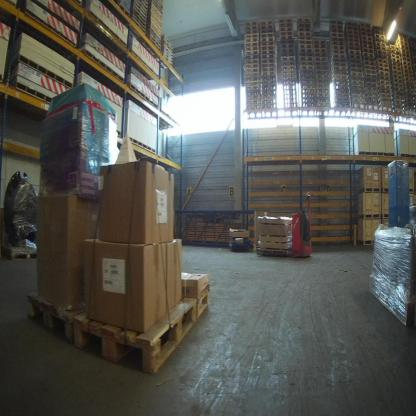pallet_truck: (255, 191, 312, 259)
small_load_carrier: (2, 243, 35, 260), (118, 3, 131, 18), (261, 70, 277, 78), (396, 37, 409, 46), (244, 46, 260, 53), (244, 37, 260, 44), (260, 36, 276, 43), (331, 61, 347, 68), (330, 49, 346, 56), (364, 81, 378, 89), (246, 103, 261, 110), (244, 28, 259, 35), (261, 58, 276, 65), (315, 69, 330, 76), (349, 79, 364, 86), (349, 75, 364, 82), (378, 97, 393, 104), (378, 74, 391, 82), (244, 20, 258, 27), (313, 47, 327, 54), (316, 78, 330, 85), (364, 77, 378, 84), (363, 59, 377, 66), (378, 88, 392, 95), (245, 63, 261, 69), (244, 59, 260, 65), (244, 50, 260, 56), (244, 33, 260, 39), (261, 103, 277, 109), (261, 99, 277, 105), (261, 94, 277, 100), (261, 89, 277, 95), (260, 50, 276, 56), (260, 45, 276, 51), (260, 41, 276, 47), (281, 70, 297, 76), (297, 26, 313, 32), (331, 65, 347, 71), (332, 70, 348, 76), (330, 41, 346, 47), (348, 71, 364, 77), (348, 67, 364, 73), (388, 48, 400, 56), (362, 51, 375, 58), (361, 43, 374, 50), (378, 79, 391, 86), (377, 70, 390, 77), (376, 58, 389, 65), (375, 49, 388, 56), (392, 86, 405, 93), (391, 73, 404, 80), (389, 57, 402, 64), (387, 44, 400, 51), (360, 35, 373, 42), (360, 31, 373, 38), (372, 25, 385, 32), (246, 99, 261, 105), (246, 94, 261, 100), (246, 90, 261, 96), (246, 86, 261, 92), (245, 81, 260, 87), (245, 68, 260, 74), (244, 54, 259, 60), (244, 42, 259, 48), (244, 25, 259, 31), (262, 85, 277, 91), (262, 81, 277, 87), (261, 66, 276, 72), (261, 63, 276, 69), (261, 54, 276, 60), (260, 28, 275, 34), (281, 65, 296, 71), (281, 56, 296, 62), (281, 47, 296, 53), (298, 35, 313, 41), (316, 102, 331, 108), (315, 74, 330, 80), (315, 65, 330, 71), (314, 61, 329, 67), (331, 45, 346, 51), (348, 63, 363, 69), (348, 59, 363, 65), (347, 54, 362, 60), (347, 49, 362, 55), (314, 56, 328, 62), (313, 43, 327, 49), (316, 88, 330, 94), (347, 41, 361, 47), (346, 37, 360, 43), (364, 73, 378, 79), (363, 64, 377, 70), (362, 56, 376, 62), (379, 106, 393, 112), (378, 93, 392, 99), (375, 45, 387, 52), (374, 37, 386, 44), (390, 60, 402, 67), (389, 53, 401, 60), (330, 32, 344, 38), (330, 23, 344, 29), (346, 33, 360, 39), (345, 21, 359, 27), (374, 33, 386, 40), (261, 77, 277, 82), (299, 65, 315, 70), (331, 58, 347, 63), (331, 54, 347, 59), (296, 18, 312, 23), (280, 26, 293, 32), (364, 69, 377, 75), (362, 47, 375, 53), (361, 39, 374, 45), (378, 83, 391, 89), (377, 66, 390, 72), (376, 62, 389, 68), (376, 54, 389, 60), (374, 41, 387, 47), (346, 25, 359, 31), (359, 27, 372, 33), (403, 72, 414, 79), (400, 48, 411, 55), (245, 78, 260, 83), (245, 73, 260, 78), (260, 33, 275, 38), (281, 61, 296, 66), (281, 52, 296, 57), (299, 61, 314, 66), (299, 56, 314, 61), (299, 52, 314, 57), (298, 39, 313, 44), (298, 31, 313, 36), (297, 22, 312, 27), (316, 97, 331, 102), (316, 93, 331, 98), (347, 46, 362, 51), (392, 82, 404, 88), (392, 78, 404, 84), (390, 69, 402, 75), (390, 65, 402, 71), (359, 23, 371, 29), (373, 30, 385, 36), (393, 91, 405, 97), (397, 40, 409, 46), (260, 25, 274, 30), (260, 21, 274, 26), (281, 43, 295, 48), (280, 35, 294, 40), (299, 48, 313, 53), (299, 44, 313, 49), (314, 52, 328, 57), (313, 39, 327, 44), (316, 84, 330, 89), (379, 102, 393, 107), (330, 28, 344, 33), (330, 20, 344, 25), (346, 30, 360, 35), (401, 55, 411, 62), (402, 68, 413, 74), (281, 39, 294, 44), (280, 31, 293, 36), (280, 23, 292, 28), (280, 19, 292, 24), (330, 37, 345, 41), (402, 64, 412, 70), (402, 60, 412, 66), (400, 44, 410, 50), (394, 96, 405, 101), (401, 53, 411, 58)
